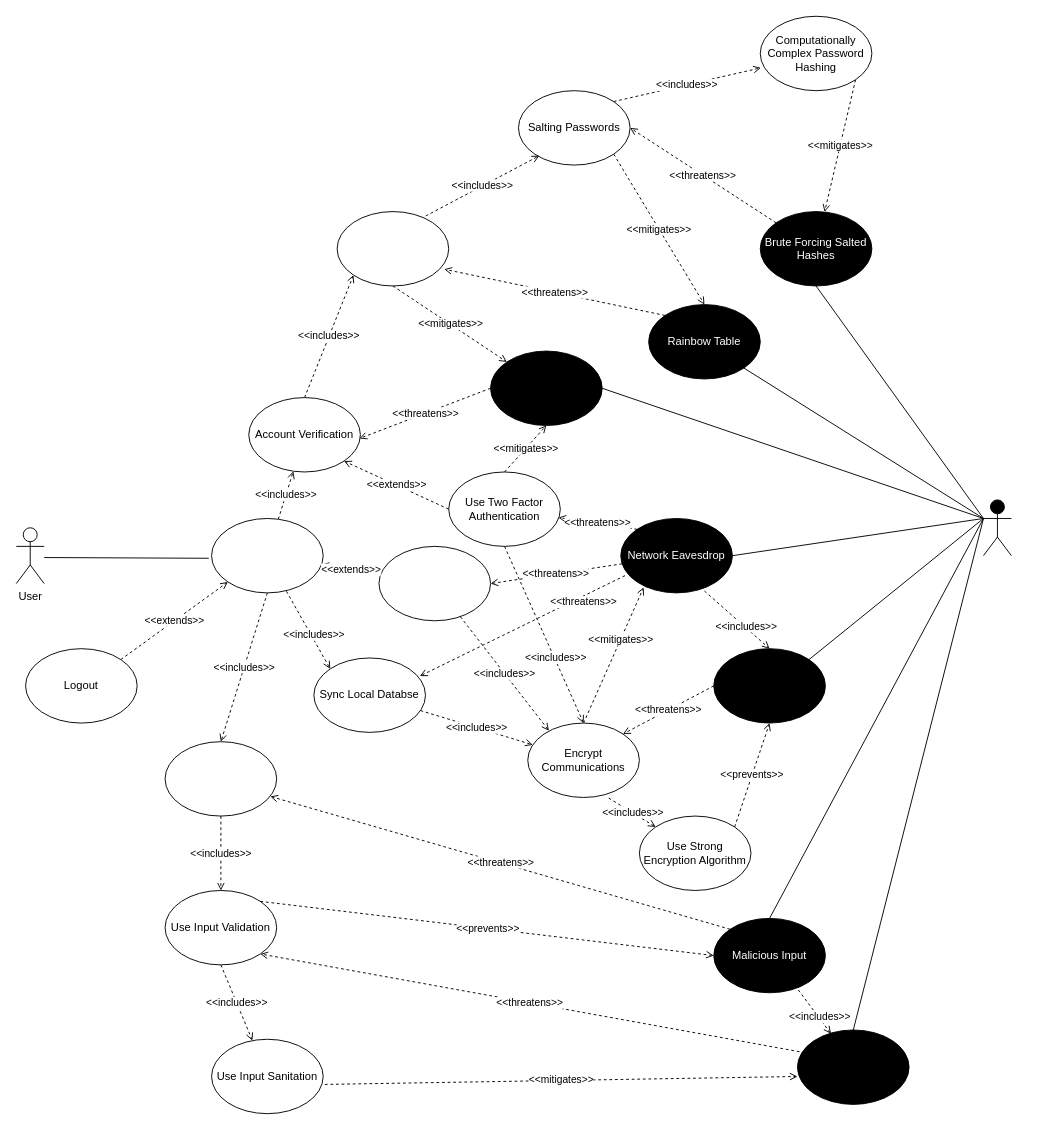
Some shapes in this 1055 by 1130 pixel diagram are drawn without their labels. Each missing label, with the centre of its shape:
Database Theft: the point at 546,387
Escape Input Validation: the point at 853,1066
Exploit Weak Crypto: the point at 769,685
Login: the point at 267,555
Malicious Insider: the point at 997,527
Receive User Input: the point at 220,778
Send Password Hint: the point at 434,583
Use Password Hashing: the point at 392,248
